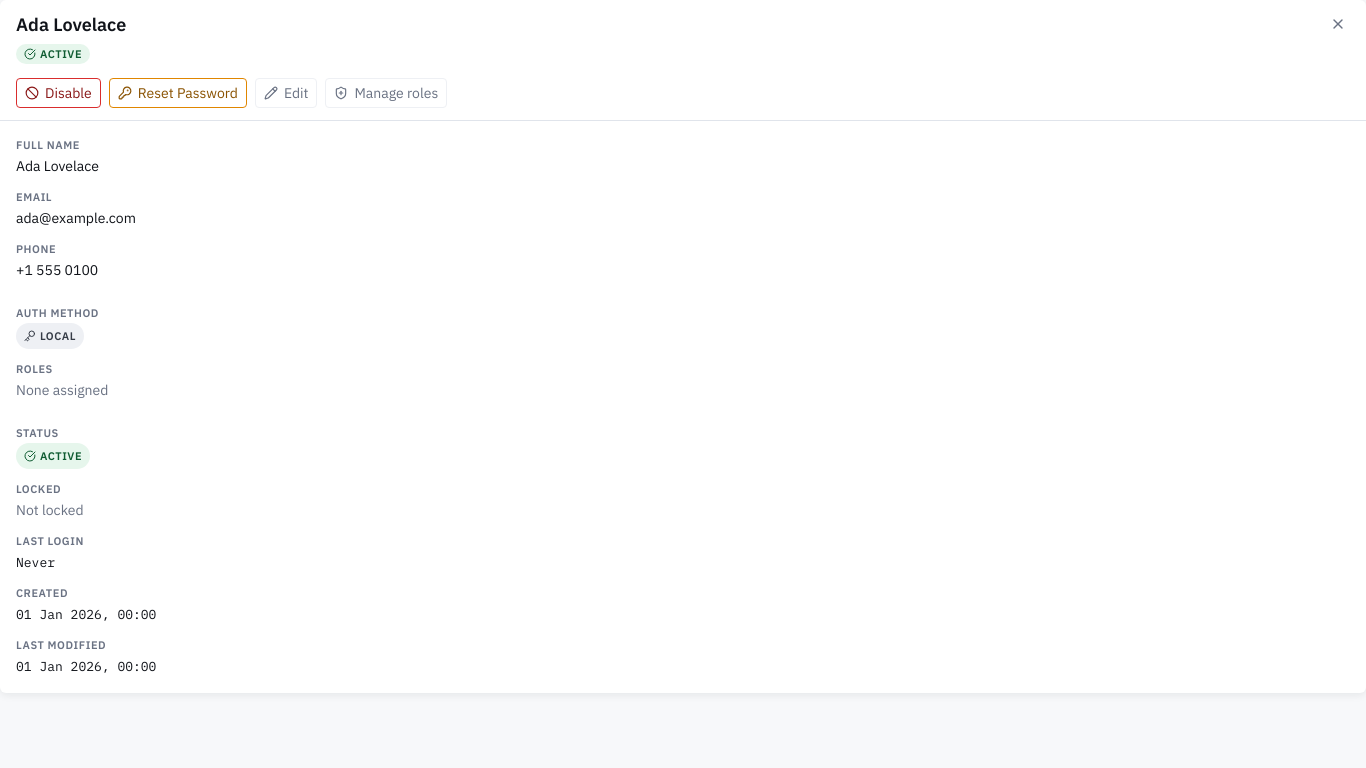
Test: UserDetail edit mode › shows an inline alert and stays in edit mode on USER_NOT_FOUND
This screenshot has width=1366, height=768.
Click the button "Edit" at (286, 93), box [255,78,318,108]
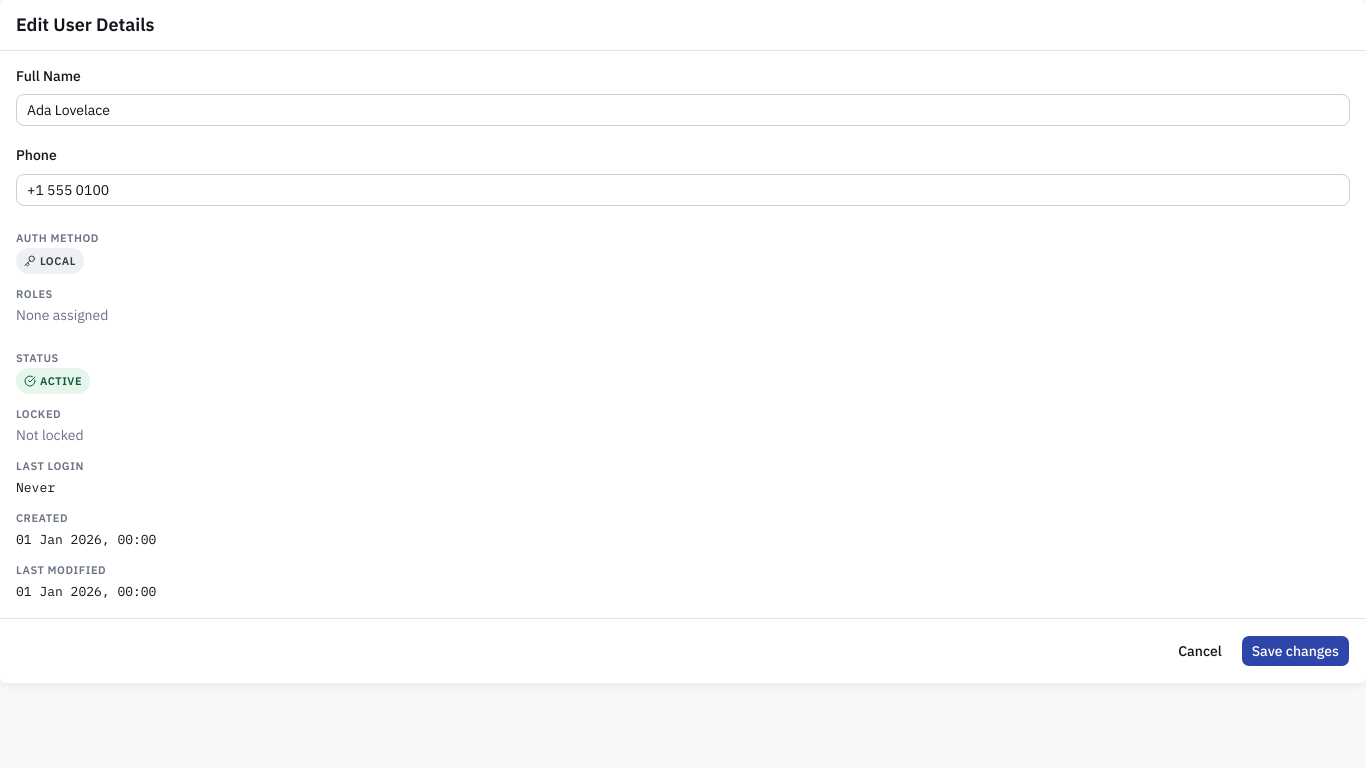
Click the button "Save changes" at (1295, 650), box [1241,634,1350,666]
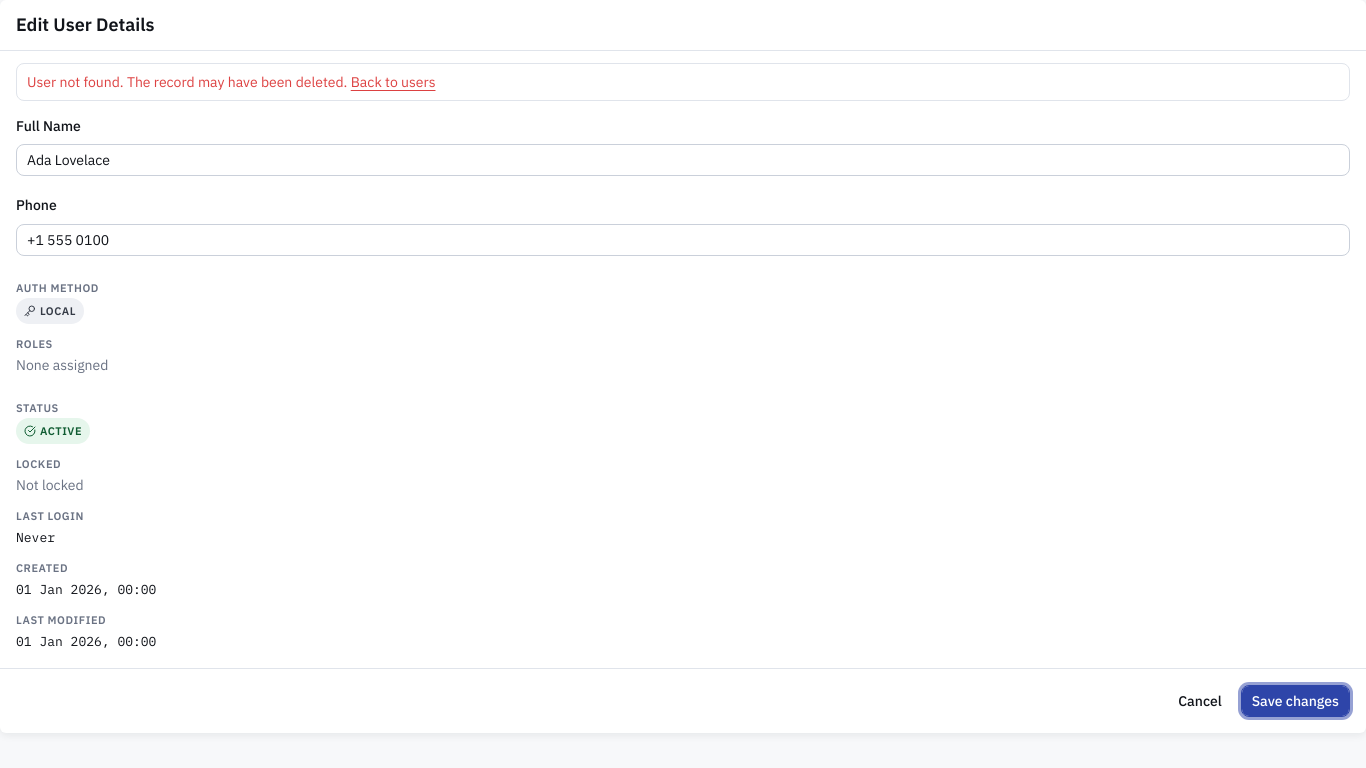
Result: the heading "Edit User Details" is shown at [16,12,155,38]
Result: the message shows "User not found." at [27,73,347,91]
